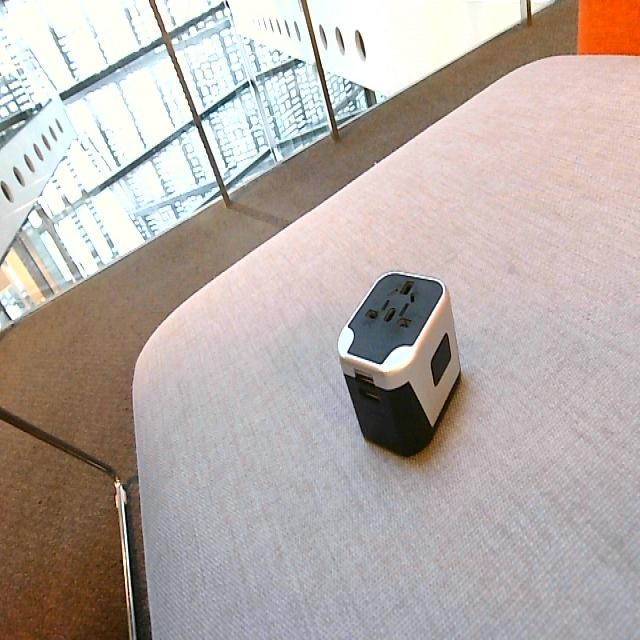adapter: (336, 270, 461, 458)
